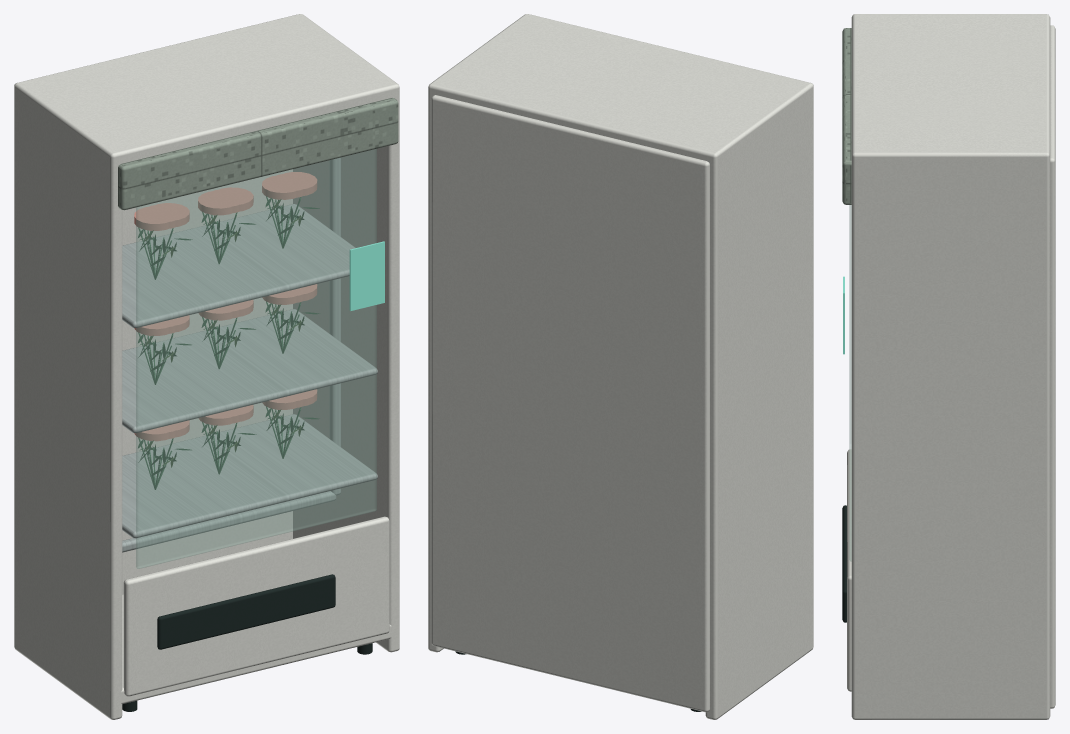
Rendered from detail-flower-cabinet-0.glb.
The picture shows the model from 3 angles, left to right: view 1: azimuth 30°, elevation 25°; view 2: azimuth 150°, elevation 25°; view 3: azimuth 270°, elevation 25°; orthographic projection.
Visible parts, largest first — view 1: cabinet_side (×2), display_glass, shelf (×3), cabinet_cap (×2), lower_door, header, cabinet_back, pickup_opening, frame_rail, frame_side, flower_petals (×3), label_payment_screen; view 2: cabinet_back, cabinet_side (×2), cabinet_cap; view 3: cabinet_side (×2), cabinet_cap, cabinet_back, header, lower_door, display_glass, pickup_opening.
Boxes of the visible parts, x1,y1,x2,y2 form: cabinet_side (×2): (14,14,399,719); display_glass: (136,149,376,568); shelf (×3): (122,204,377,538); cabinet_cap (×2): (23,15,392,703); lower_door: (123,516,389,696); header: (118,97,398,210); cabinet_back: (122,169,292,594); pickup_opening: (157,574,335,649); frame_rail: (122,491,336,552); frame_side: (329,157,340,495); flower_petals (×3): (134,175,303,230); label_payment_screen: (349,241,384,310); cabinet_back: (431,95,709,712); cabinet_side (×2): (428,14,813,719); cabinet_cap: (435,15,804,160); cabinet_side (×2): (851,14,1050,719); cabinet_cap: (851,17,1050,152); cabinet_back: (1050,25,1055,708); header: (842,28,851,204); lower_door: (847,449,851,691); display_glass: (849,205,851,561); pickup_opening: (842,505,846,622).
Size of the model in its own units: 1.1 by 2.05 by 0.6975.
Materials: 9 (7 with a texture image).
